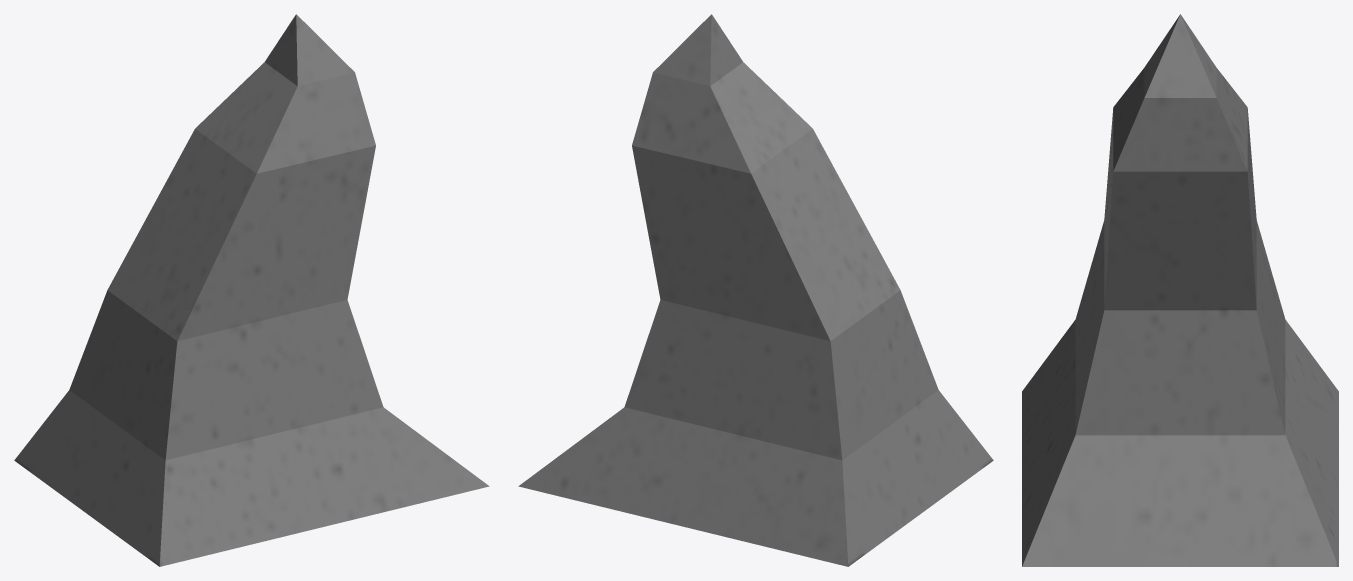
Rendered from Estataatatatatattat1.fbx.
The picture shows the model from 3 angles, left to right: view 1: azimuth 30°, elevation 25°; view 2: azimuth 150°, elevation 25°; view 3: azimuth 270°, elevation 25°; orthographic projection. The views are drawn at different scales.
Visible parts, largest first — view 1: Cube.002; view 2: Cube.002; view 3: Cube.002.
Part boxes in pixels (box(x1,y1,x2,y2)): Cube.002: box(14, 14, 489, 566); Cube.002: box(518, 14, 993, 566); Cube.002: box(1022, 14, 1338, 566).
Size of the model in its own units: 61.76 by 80.19 by 47.12.
1 material, 1 textured.
